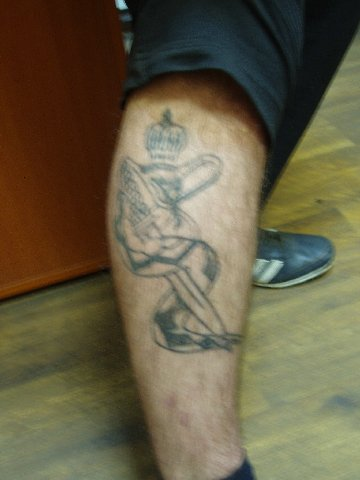tatu7_zmeya: (124, 115, 236, 381)
